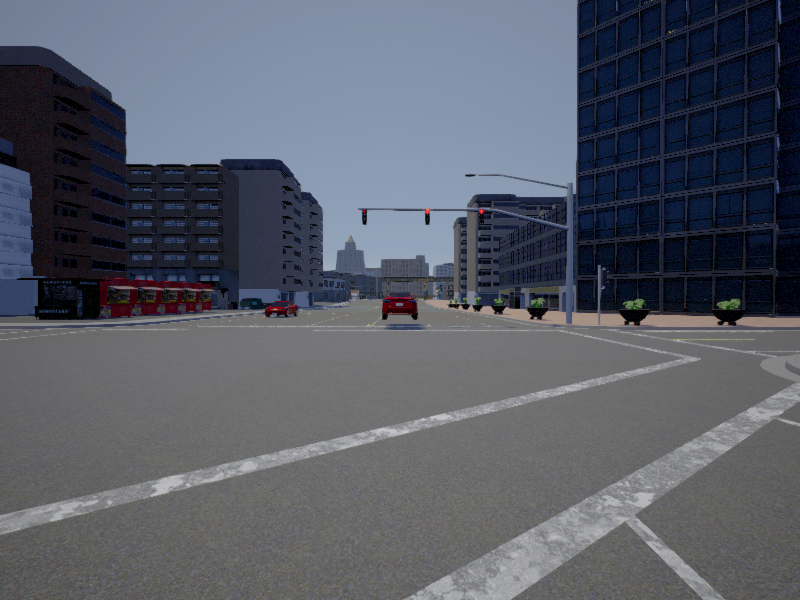Attacker: (384, 292, 418, 317)
Benign: (264, 300, 300, 317)
